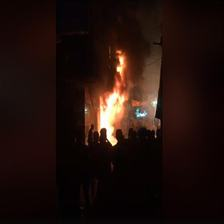fire: (94, 46, 136, 128)
